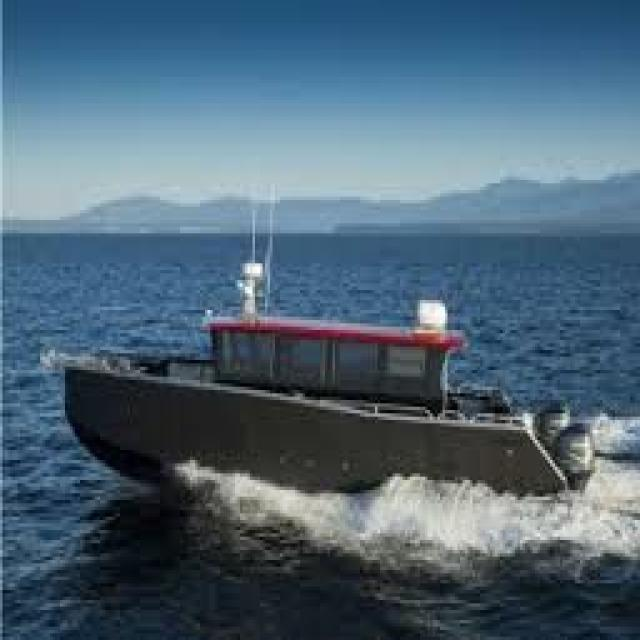houseboat: (59, 247, 598, 506)
